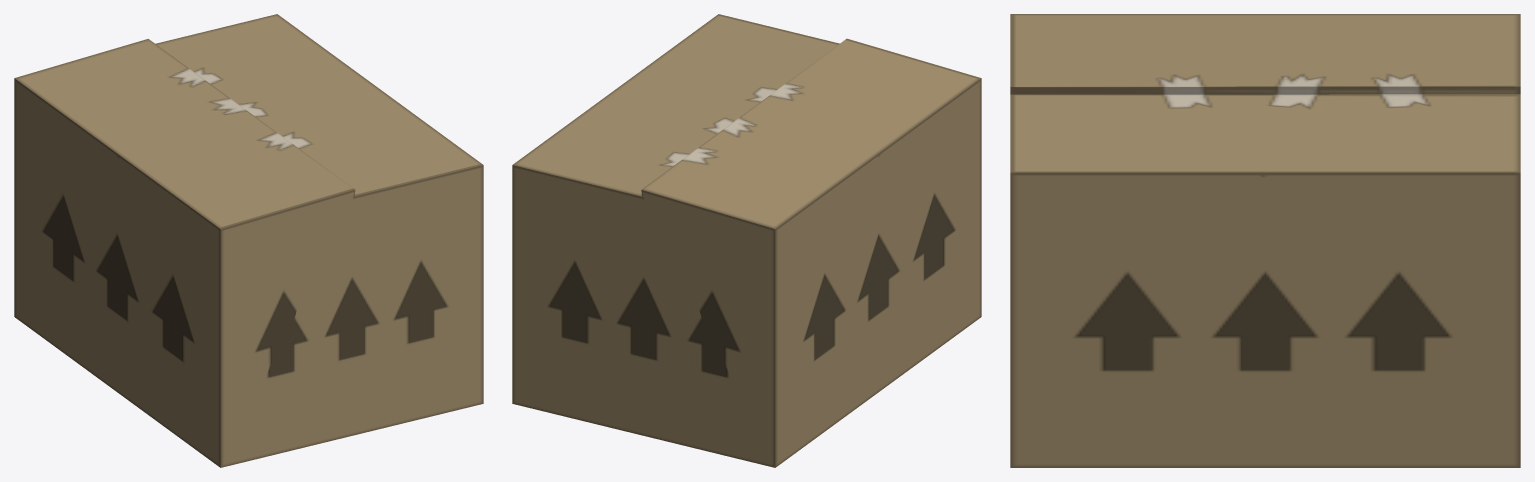
File: Package.obj
3 renders of one model, left to right at view 1: azimuth 30°, elevation 25°; view 2: azimuth 150°, elevation 25°; view 3: azimuth 270°, elevation 25°, orthographic. The views are drawn at different scales.
Visible parts, largest first — view 1: Cube; view 2: Cube; view 3: Cube.
Part boxes in pixels (x1,y1,x2,y2): Cube: (14, 14, 483, 467); Cube: (512, 14, 981, 467); Cube: (1010, 14, 1520, 467).
Bounding box in the file's own units: 1.03 × 0.9189 × 1.4.
